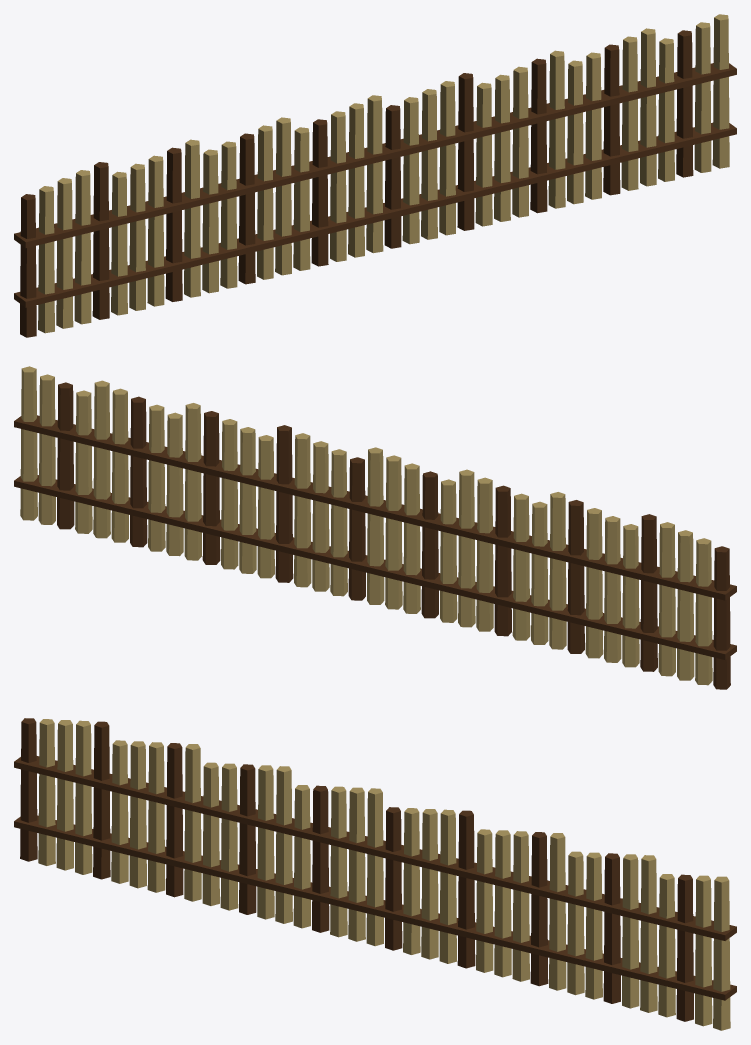
File: elephant_wall.glb
3 views of the same model, one above another, from view 1: azimuth 30°, elevation 25°; view 2: azimuth 150°, elevation 25°; view 3: azimuth 330°, elevation 25° (orthographic).
Visible parts, largest first — view 1: elephant_wall; view 2: elephant_wall; view 3: elephant_wall.
Part boxes in pixels (<box>): elephant_wall: <box>14,14,736,337</box>; elephant_wall: <box>14,366,736,689</box>; elephant_wall: <box>14,718,736,1030</box>.
Bounding box in the file's own units: 6.25 × 1.27 × 0.18.
